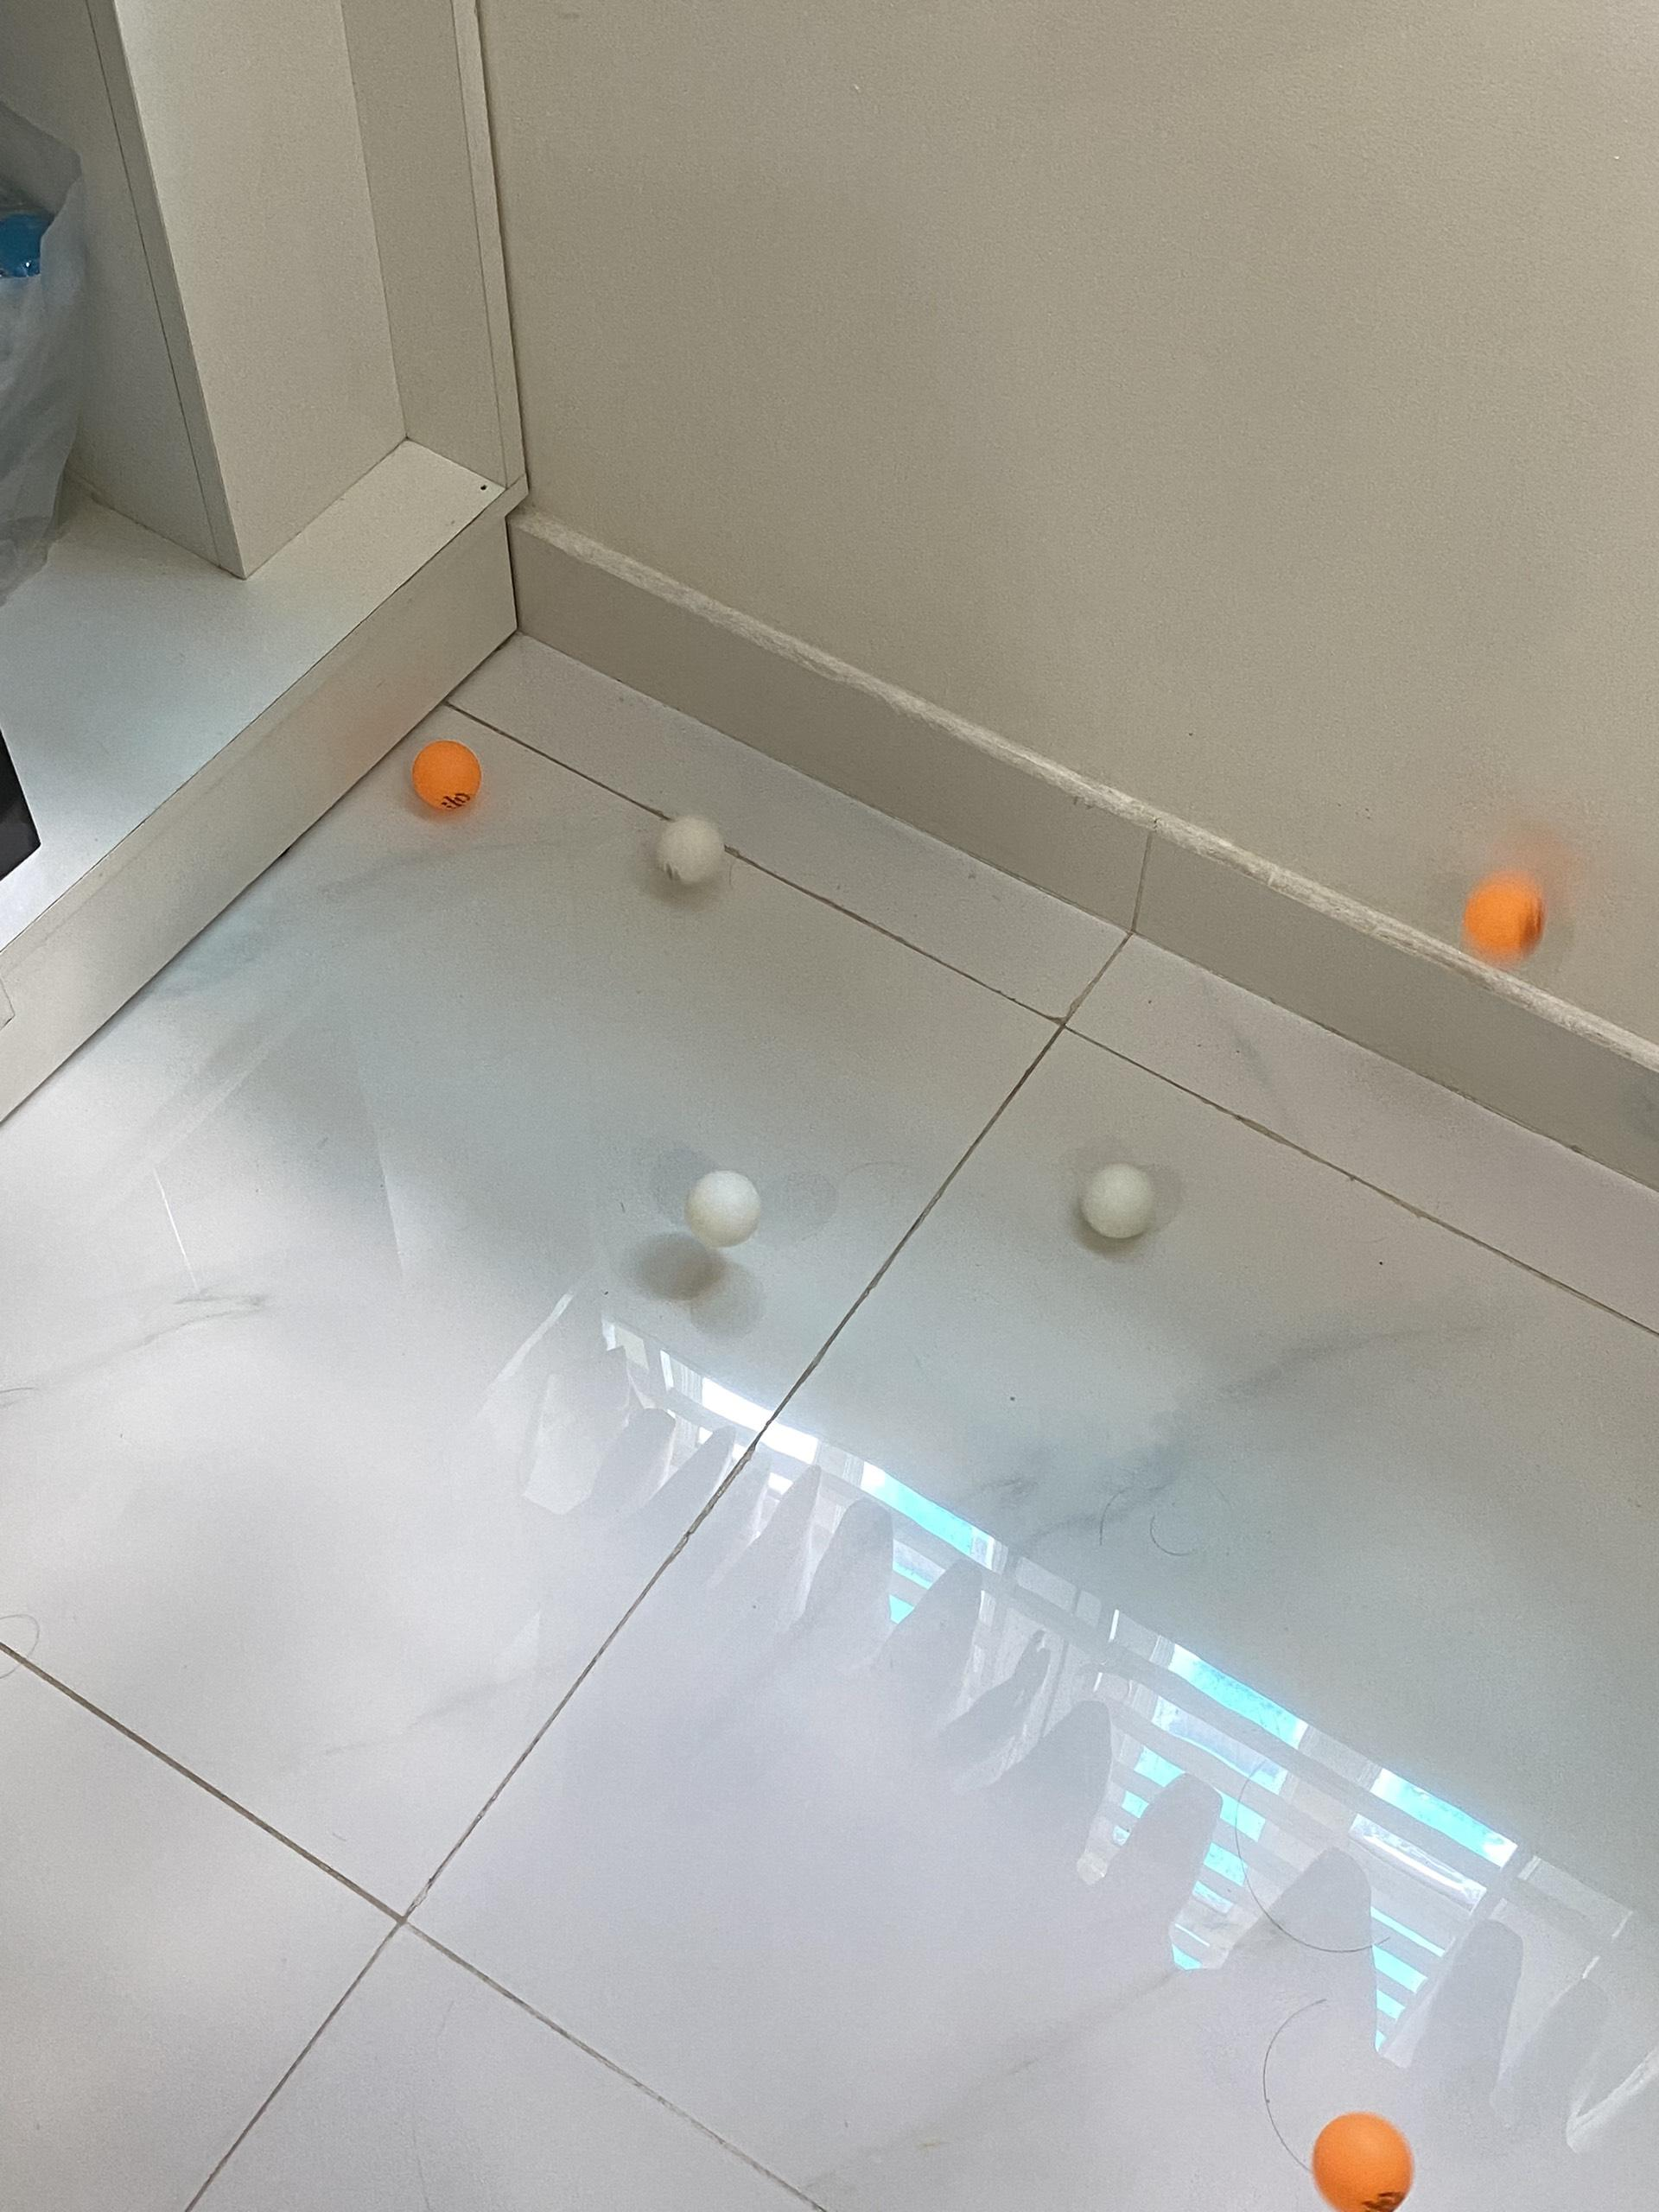oball: (1314, 2111, 1417, 2212), (1464, 869, 1549, 968), (410, 735, 486, 815)
